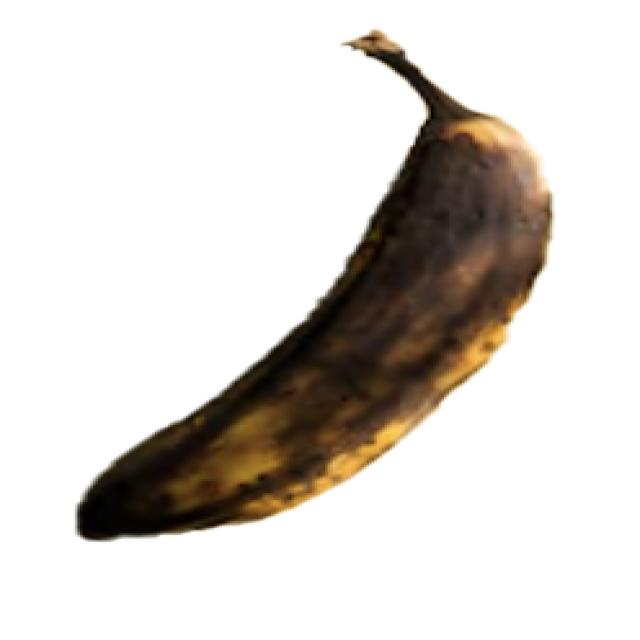rotten-banana: (72, 27, 552, 540)
